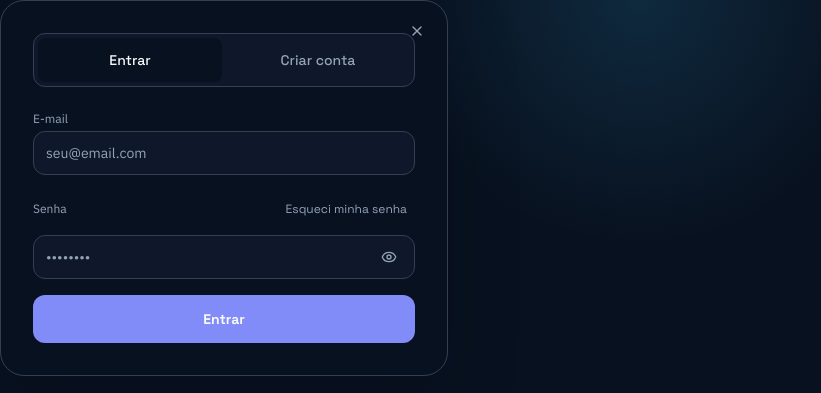
Test: AuthPanel — esqueci minha senha › abre a tela dedicada de redefinição, sem campo de senha, com e-mail pré-preenchido
Type "rrocha@teste.com" into the field with placeholder "seu@email.com" at (224, 153), box x1=33 y1=131 x2=415 y2=175
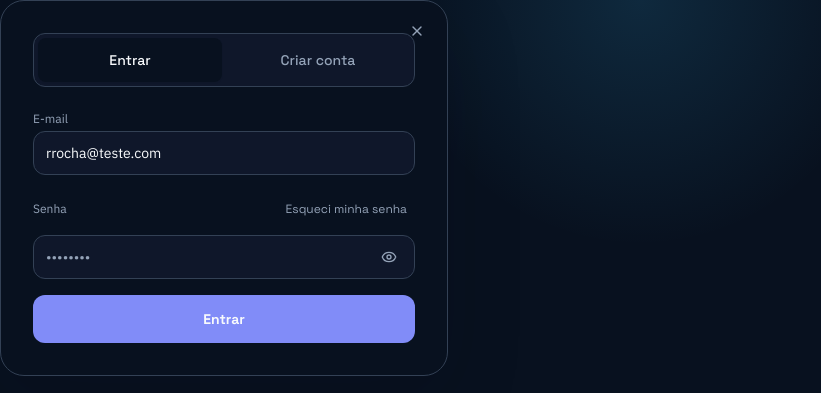
Click the button "Esqueci minha senha" at (346, 209), box x1=278 y1=187 x2=415 y2=231
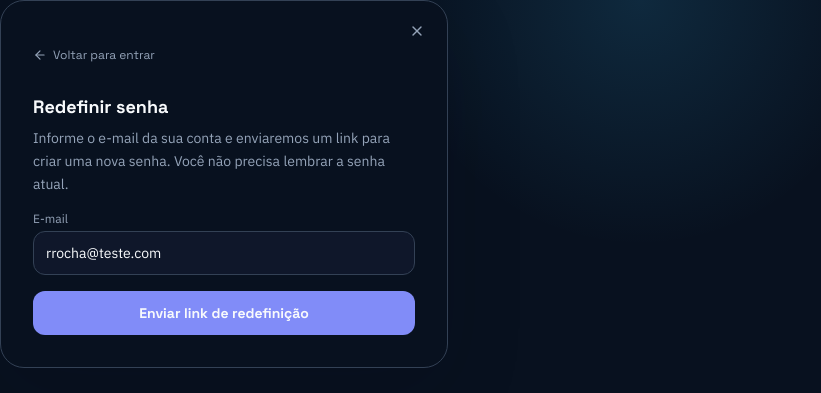
Expected: the heading "Redefinir senha" is shown, x1=33 y1=95 x2=168 y2=118
Expected: the field labelled "E-mail" holds "rrocha@teste.com", x1=33 y1=231 x2=415 y2=275
